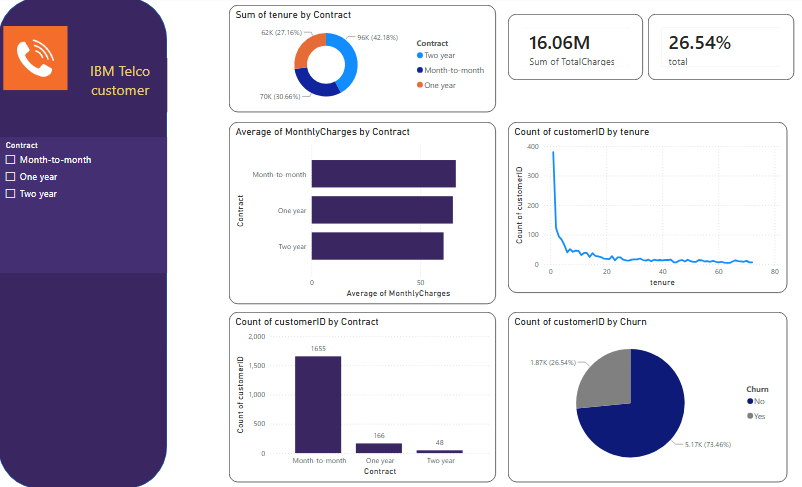

Layout of this report page (visuals, bound fields, positions):
{"tool":"powerbi","page":{"name":"Page 1","canvas":[1364,835],"ordinal":0},"visuals":[{"type":"pieChart","fields":{"Category":["IBM.Churn"],"Y":["Count(IBM.customerID)"]},"box":[865.5,534.6,473.5,288.5],"z":0},{"type":"cardVisual","fields":{"Data":["IBM.total"]},"box":[1103.2,28.9,247.8,112],"z":1000},{"type":"columnChart","fields":{"Category":["IBM.Contract"],"Y":["Count(IBM.customerID)"]},"box":[392,534.6,453.1,288.5],"z":2000},{"type":"barChart","fields":{"Y":["Avg(IBM.MonthlyCharges)"],"Category":["IBM.Contract"]},"box":[392,212.1,453.1,308.9],"z":3000},{"type":"donutChart","fields":{"Y":["Sum(IBM.tenure)"],"Category":["IBM.Contract"]},"box":[392,13.6,453.1,181.6],"z":4000},{"type":"cardVisual","fields":{"Data":["Sum(IBM.TotalCharges)"]},"box":[865.5,28.9,229.1,112],"z":5000},{"type":"lineChart","fields":{"Category":["IBM.tenure"],"Y":["Count(IBM.customerID)"]},"box":[865.5,212.1,473.5,290.2],"z":6000},{"type":"shape","box":[0,0,286.8,835],"z":7000},{"type":"slicer","fields":{"Values":["IBM.Contract"]},"box":[0,237.6,286.8,230.8],"z":8000},{"type":"image","box":[0,49.2,127.3,108.6],"z":9000},{"type":"textbox","box":[127.3,103.5,159.5,91.6],"z":10000}]}

Visuals, with their boxes in screenshot pixels (x1, y1, x2, y2), scaled from the page's 1364x835 canvas onto the 802x487 screenshot:
pieChart - IBM.Churn x Count(IBM.customerID): region(509, 312, 787, 480)
cardVisual - IBM.total: region(649, 17, 794, 82)
columnChart - IBM.Contract x Count(IBM.customerID): region(230, 312, 497, 480)
barChart - Avg(IBM.MonthlyCharges) x IBM.Contract: region(230, 124, 497, 304)
donutChart - Sum(IBM.tenure) x IBM.Contract: region(230, 8, 497, 114)
cardVisual - Sum(IBM.TotalCharges): region(509, 17, 644, 82)
lineChart - IBM.tenure x Count(IBM.customerID): region(509, 124, 787, 293)
shape: region(0, 0, 169, 486)
slicer - IBM.Contract: region(0, 139, 169, 273)
image: region(0, 29, 75, 92)
textbox: region(75, 60, 169, 114)
